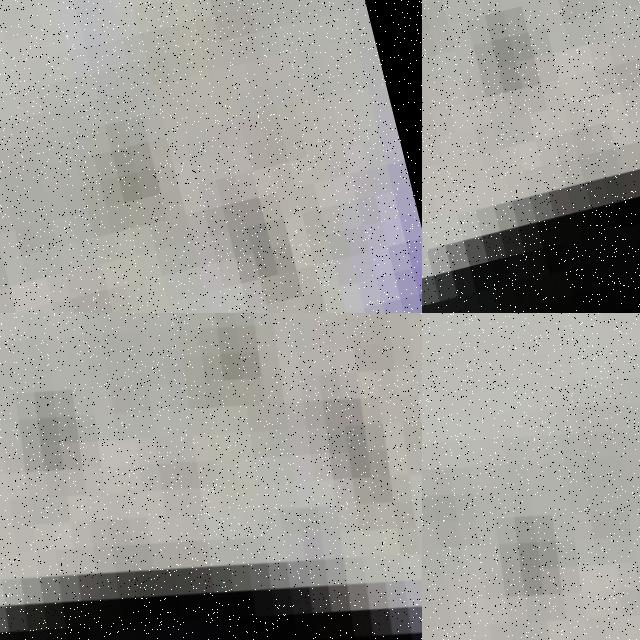drone: (0, 313, 422, 640), (422, 313, 640, 640)
